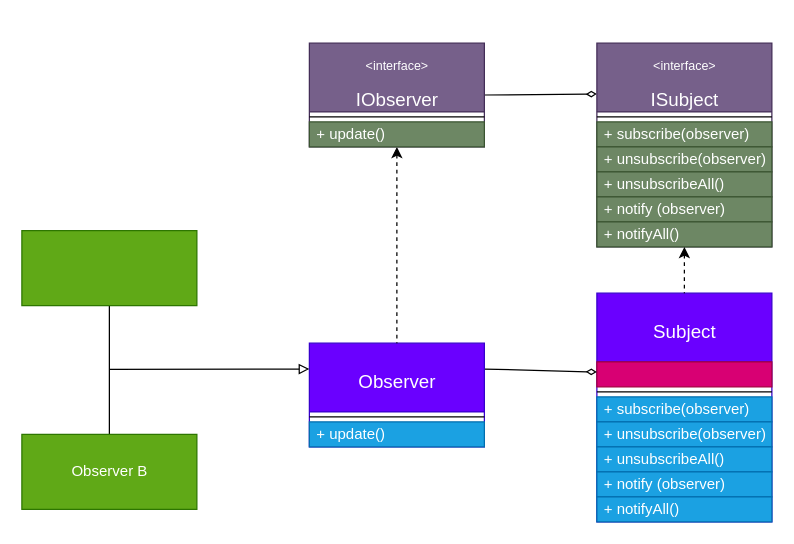
This 794x544 diagram has some shape labels left out. The shapes that lost their labels are listed below. From the top down, each one's centre as x and y in pixels, then its label:
At pixel 109 267: "Observer A".
At pixel 684 374: "+ observers[]".
